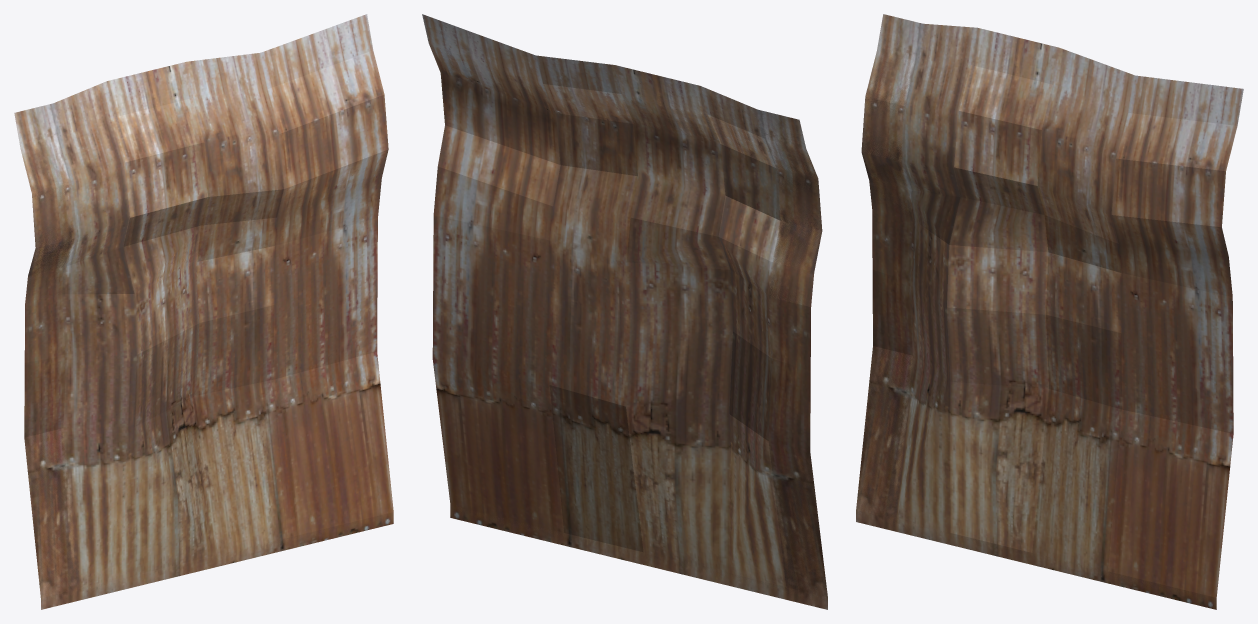
The model's file is metalpanelB.fbx.
3 renders of one model, left to right at view 1: azimuth 30°, elevation 25°; view 2: azimuth 150°, elevation 25°; view 3: azimuth 330°, elevation 25°, orthographic. The views are drawn at different scales.
Parts seen in each view (by area): view 1: Untitled; view 2: Untitled; view 3: Untitled.
Boxes of the visible parts, box(x1,y1,x2,y2) form: Untitled: box(14, 14, 393, 609); Untitled: box(422, 14, 827, 609); Untitled: box(856, 14, 1243, 609).
Size of the model in its own units: 57.42 by 76.26 by 8.52.
